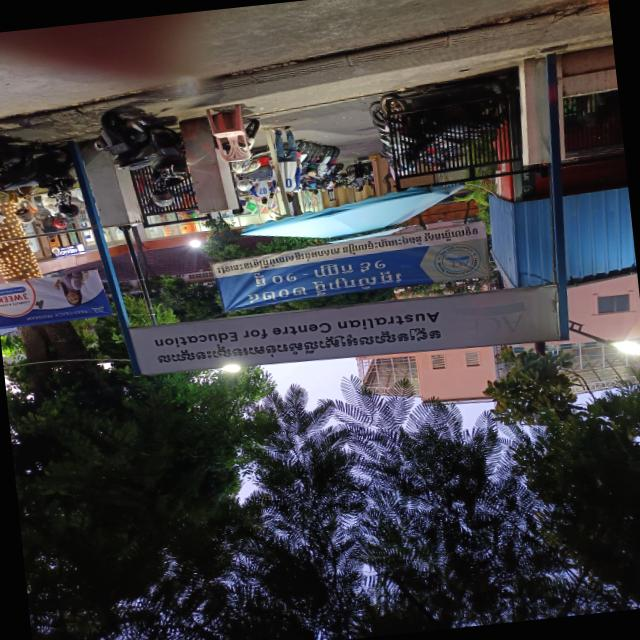1: (243, 268, 406, 306)
2: (212, 223, 480, 277)
3: (247, 254, 388, 289)
Yolov11_80vkh: (152, 324, 446, 367)
